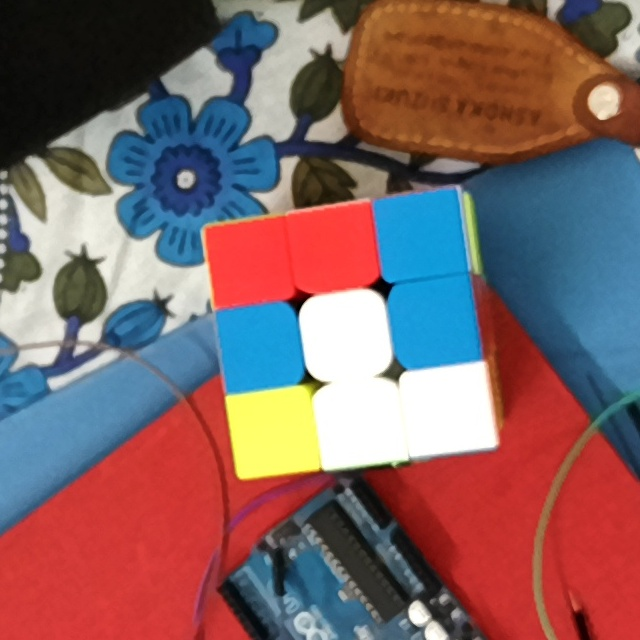tile: (398, 287, 470, 360), (312, 302, 382, 370), (296, 214, 369, 279), (385, 202, 455, 269), (416, 377, 484, 444), (237, 399, 306, 464), (226, 315, 294, 380), (216, 230, 284, 294), (325, 394, 394, 457)
